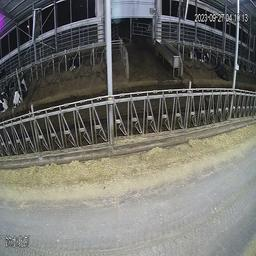cow: (12, 71, 30, 112), (189, 42, 212, 68), (215, 53, 232, 85), (66, 50, 82, 75), (1, 73, 10, 115)
